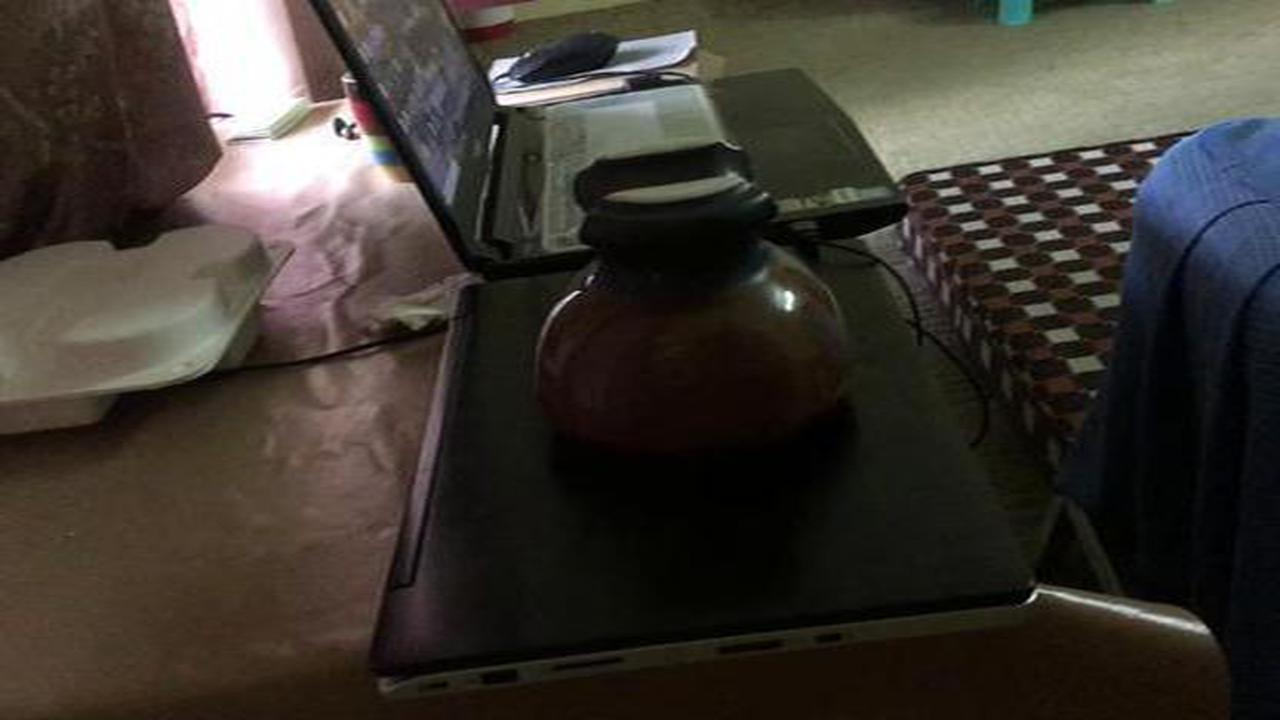insulator_pin: (517, 141, 874, 482)
